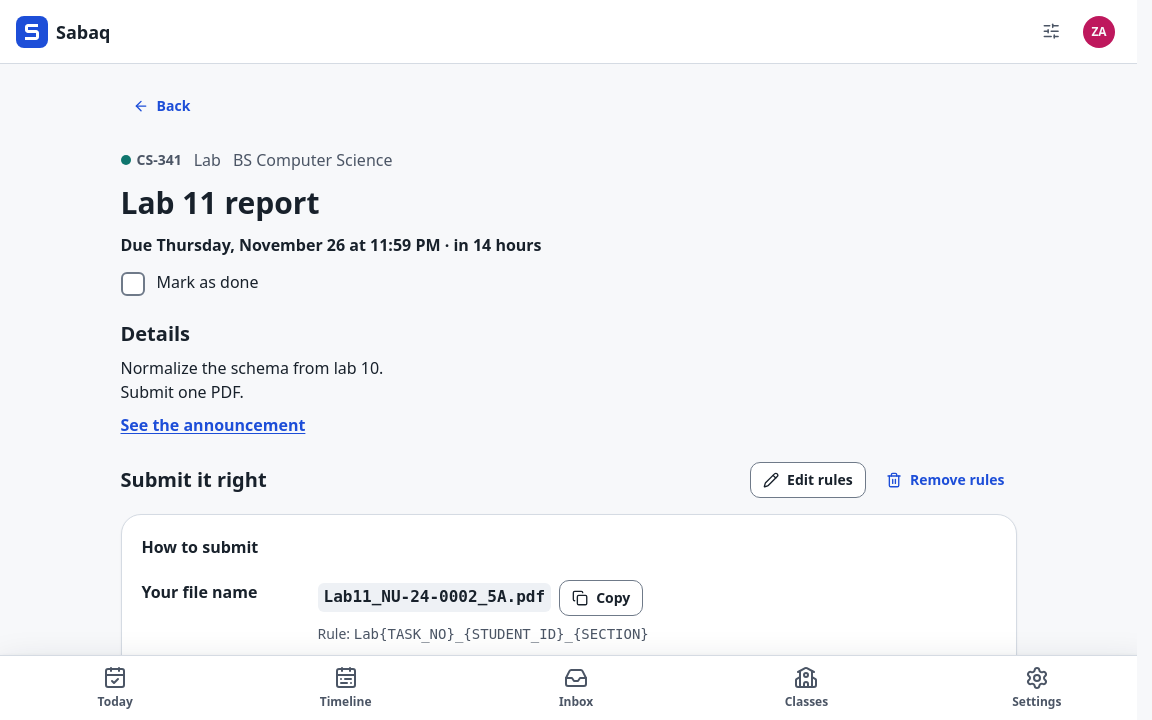
Test: setting submission rules › removes rules with an Undo
This screenshot has width=1152, height=720.
Click the button "Remove rules".
click(945, 480)  # box [874,462,1016,498]
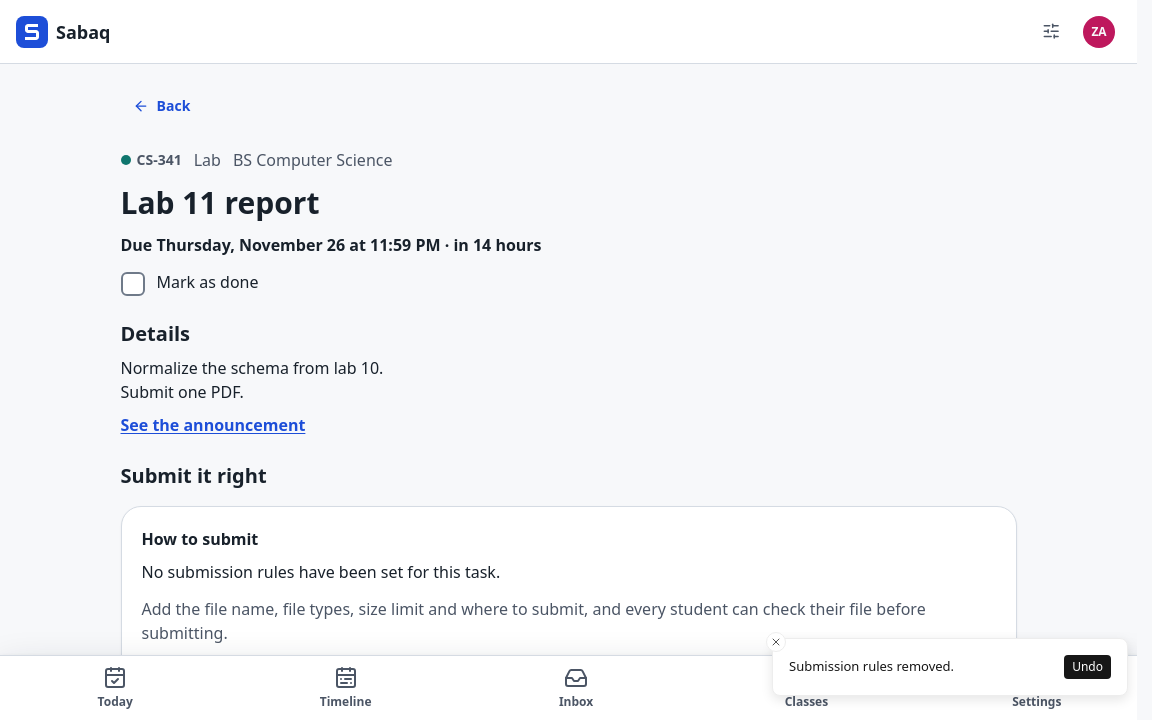
expect the text "No submission rules have been set for this task." is shown: met, box [142,560,500,585]
Click the button "Undo".
click(1088, 667)  # box [1064,655,1111,679]
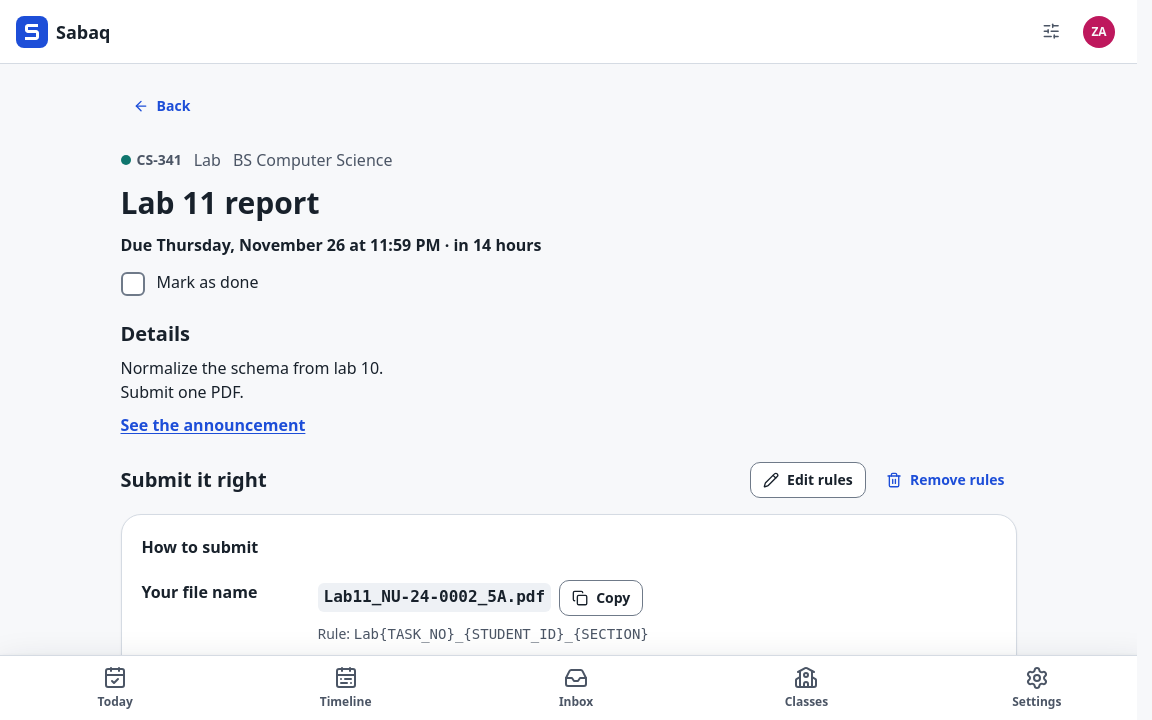
expect the text "Lab11_NU-24-0002_5A.pdf" is shown: met, box [318,583,551,612]
